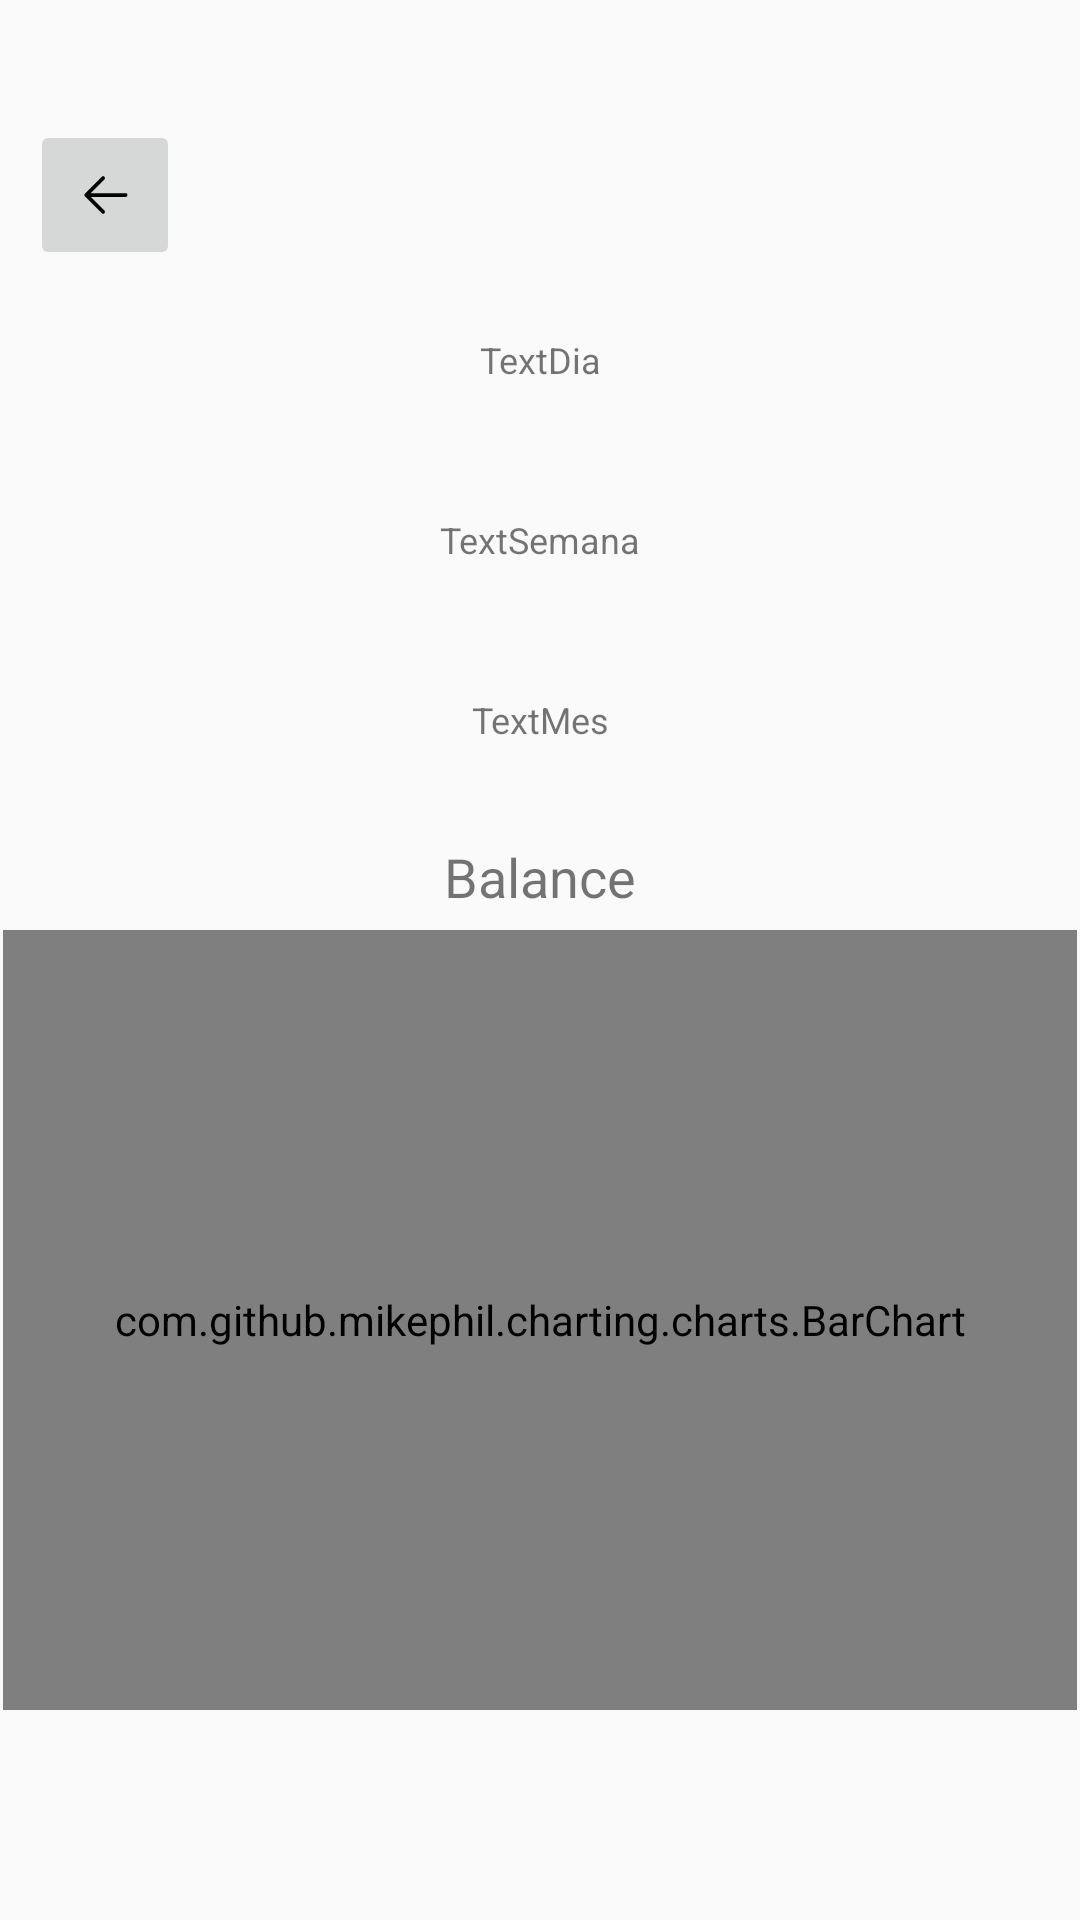

Screen size 1080w x 1920h. Icon name, then its box in pixels as region(x1, y1, x2, y2):
back: region(42, 138, 168, 252)
